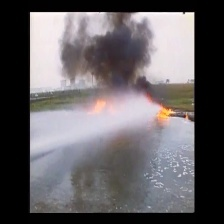fire: (153, 100, 175, 118)
